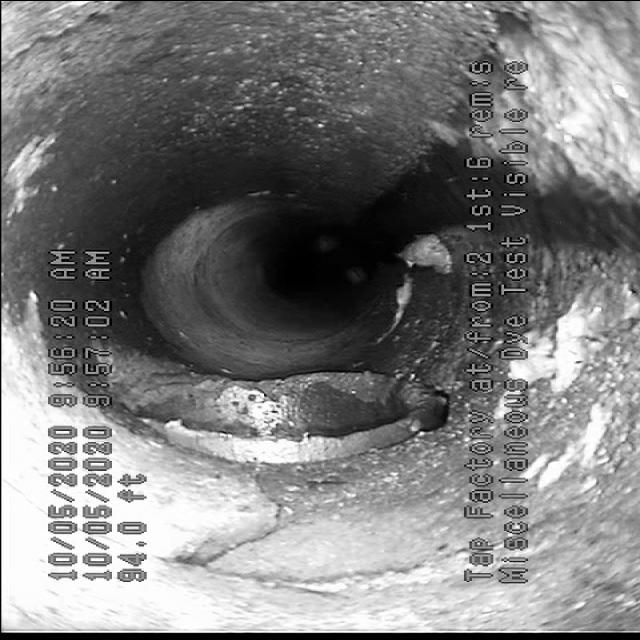Fracture: (170, 451, 400, 610)
